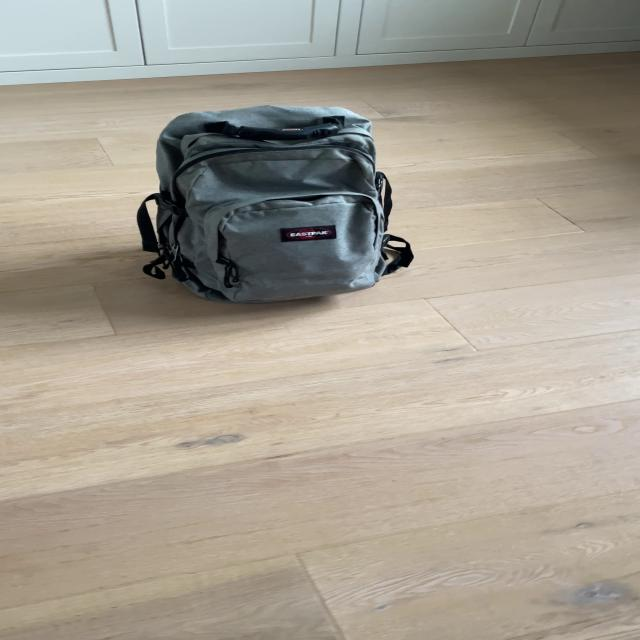backpack: (125, 95, 416, 310)
